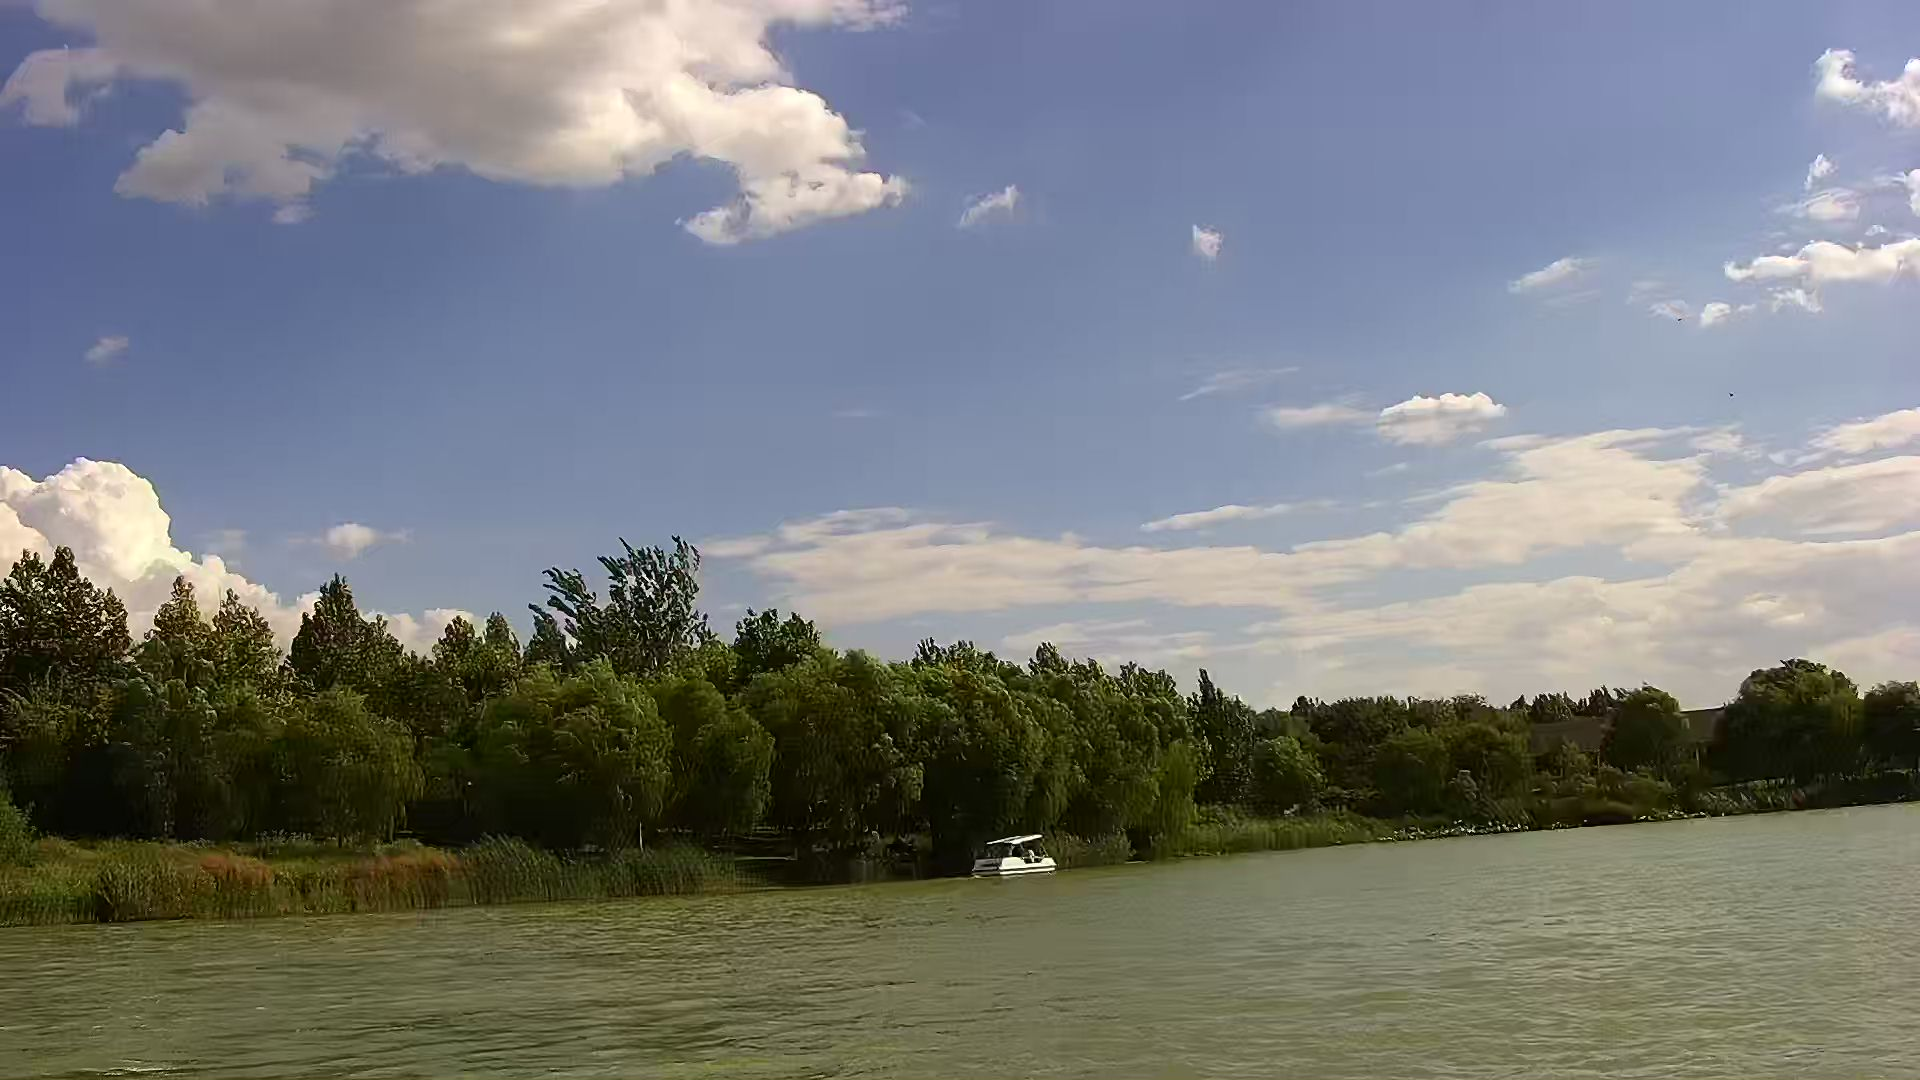boat: (975, 829, 1055, 880)
